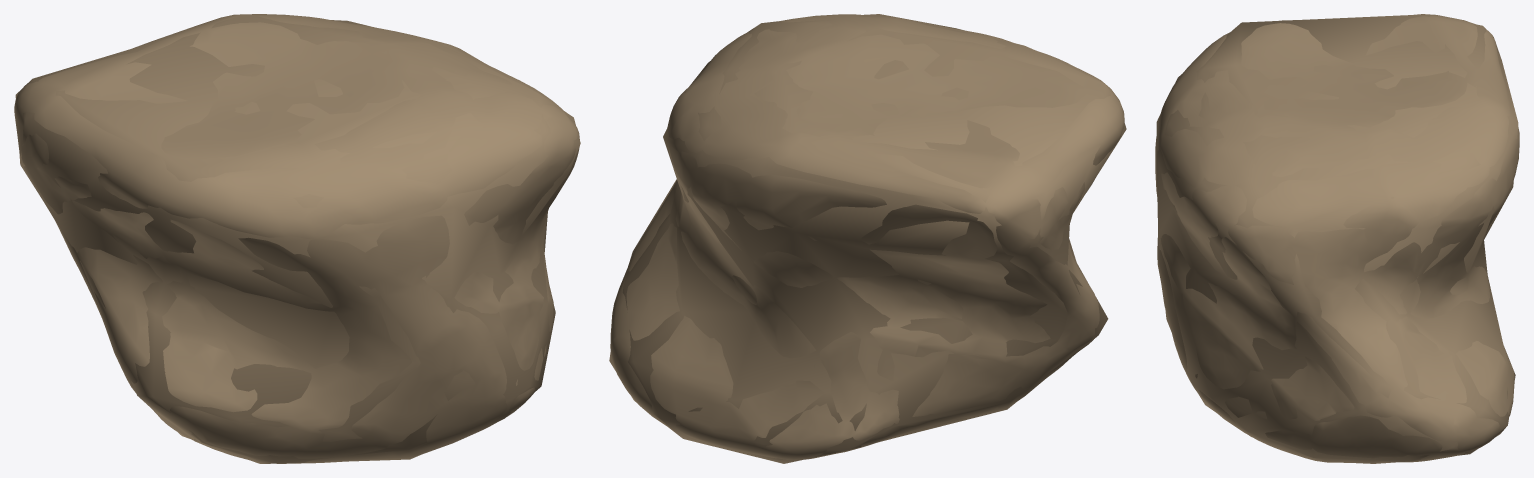
Rendered from boulder_0.glb.
The picture shows the model from 3 angles, left to right: view 1: azimuth 30°, elevation 25°; view 2: azimuth 150°, elevation 25°; view 3: azimuth 270°, elevation 25°; orthographic projection. The views are drawn at different scales.
Visible parts, largest first — view 1: Boulder_0, Boulder_0_Far; view 2: Boulder_0, Boulder_0_Far; view 3: Boulder_0, Boulder_0_Far.
Part boxes in pixels (x1,y1,x2,y2): Boulder_0: (14,14,579,463); Boulder_0_Far: (15,15,580,463); Boulder_0: (610,14,1124,459); Boulder_0_Far: (609,14,1126,463); Boulder_0: (1155,14,1519,463); Boulder_0_Far: (1156,14,1518,463).
Bounding box in the file's own units: 9 × 6.52 × 7.
